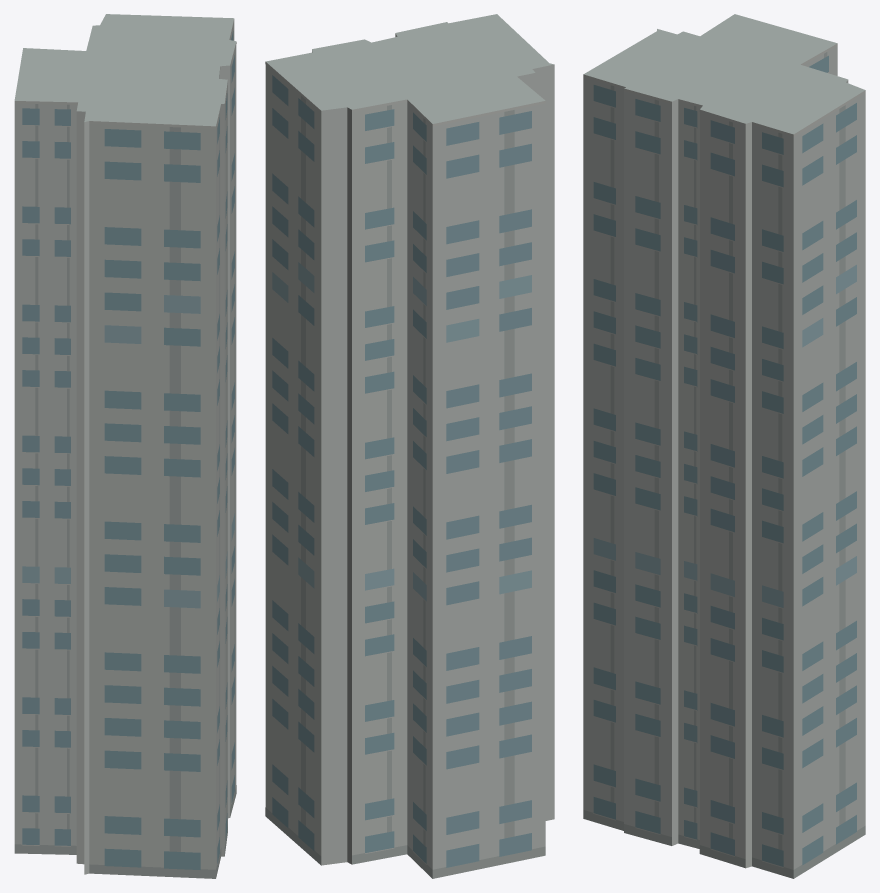
File: survey-upis-32996189.glb
3 renders of one model, left to right at view 1: azimuth 30°, elevation 25°; view 2: azimuth 150°, elevation 25°; view 3: azimuth 270°, elevation 25°, orthographic.
Visible parts, largest first — view 1: survey-upis-32996189.tmp; view 2: survey-upis-32996189.tmp; view 3: survey-upis-32996189.tmp.
Boxes of the visible parts, bbox=[...] form: survey-upis-32996189.tmp: bbox=[14, 14, 236, 878]; survey-upis-32996189.tmp: bbox=[265, 14, 554, 878]; survey-upis-32996189.tmp: bbox=[583, 14, 865, 878].
Size of the model in its own units: 24.36 by 70.15 by 24.1.
